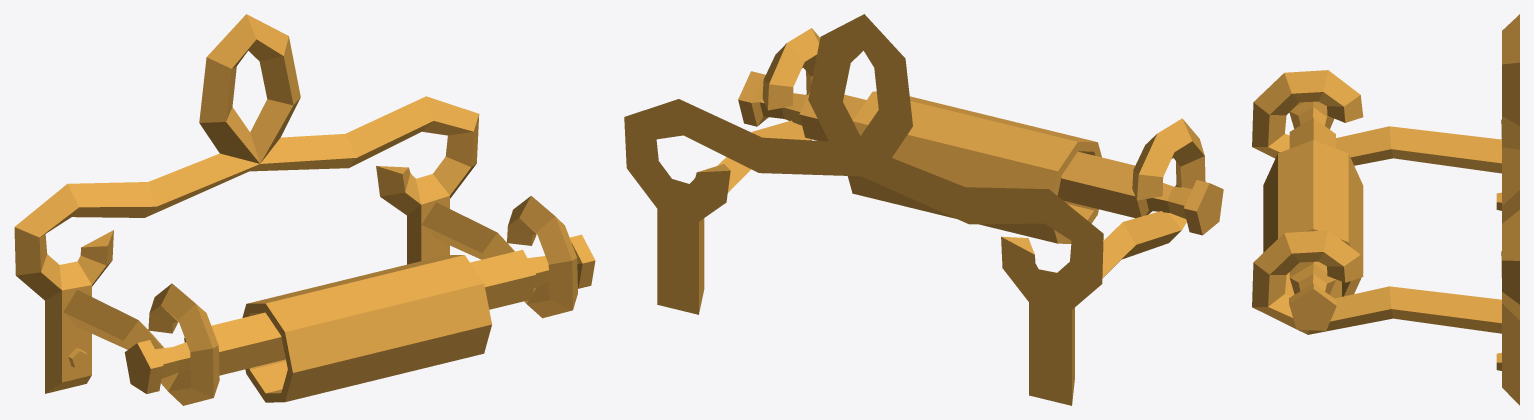
Rendered from SM_Toilet_Holder_Paper_Roll_Victorian.fbx.
The picture shows the model from 3 angles, left to right: view 1: azimuth 30°, elevation 25°; view 2: azimuth 150°, elevation 25°; view 3: azimuth 270°, elevation 25°; orthographic projection. The views are drawn at different scales.
Parts seen in each view (by area): view 1: toilet-holder-paper-roll-victorian; view 2: toilet-holder-paper-roll-victorian; view 3: toilet-holder-paper-roll-victorian.
Boxes of the visible parts, x1,y1,x2,y2 form: toilet-holder-paper-roll-victorian: (14,14,595,405); toilet-holder-paper-roll-victorian: (624,14,1223,405); toilet-holder-paper-roll-victorian: (1252,14,1519,405).
Size of the model in its own units: 0.245 by 0.1667 by 0.1338.
